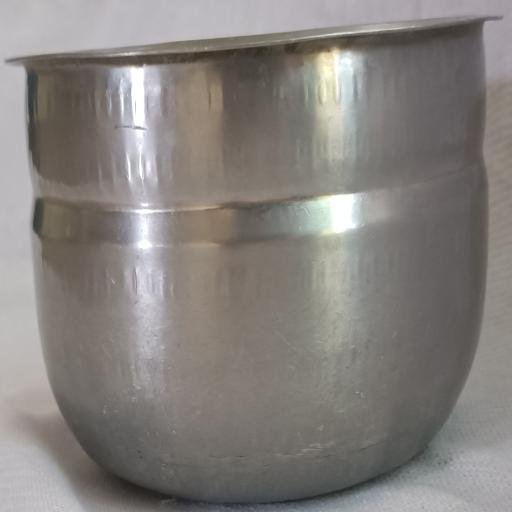vessel: (11, 17, 499, 501)
